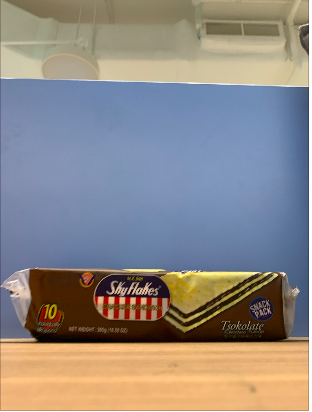Crackers_300-399g: (32, 271, 278, 334)
